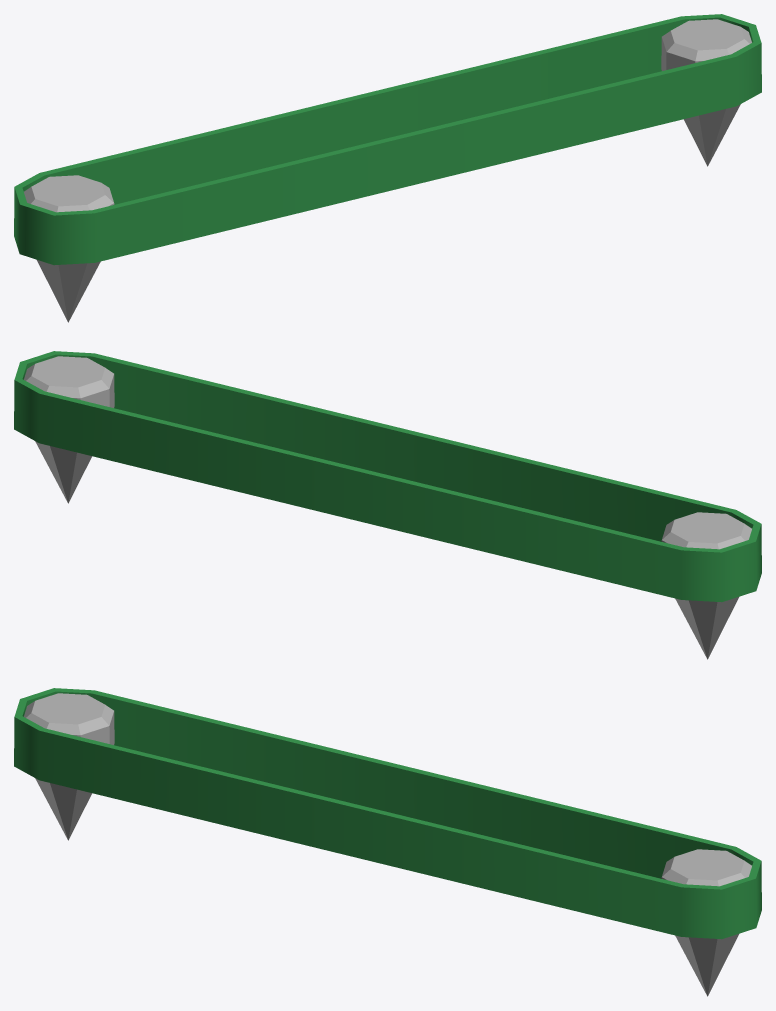
File: Elastic Band Small Green.fbx
3 views of the same model, one above another, from view 1: azimuth 30°, elevation 25°; view 2: azimuth 150°, elevation 25°; view 3: azimuth 330°, elevation 25° (orthographic).
Parts seen in each view (by area): view 1: Band.003, Pegs.003; view 2: Band.003, Pegs.003; view 3: Band.003, Pegs.003.
Part boxes in pixels (x1,y1,x2,y2): Band.003: [14, 14, 761, 265]; Pegs.003: [24, 19, 751, 322]; Band.003: [14, 351, 761, 602]; Pegs.003: [24, 356, 751, 659]; Band.003: [14, 688, 761, 939]; Pegs.003: [24, 693, 751, 996].
Size of the model in its own units: 0.5559 by 0.0952 by 0.0727.
